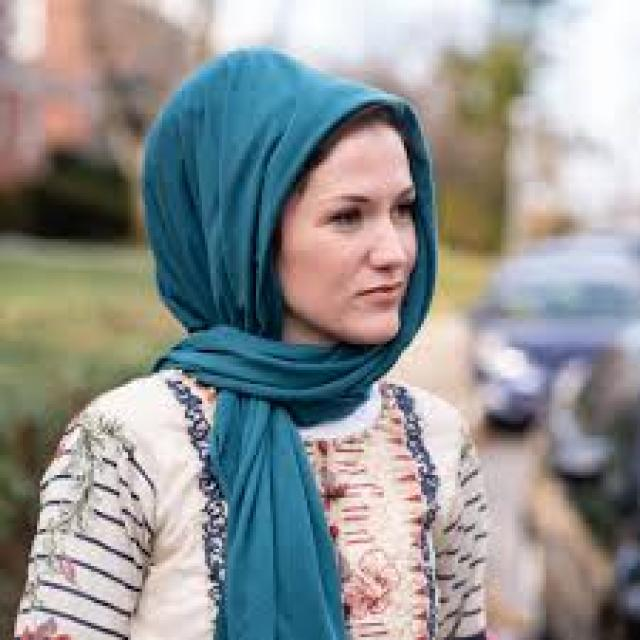4_capucha: (140, 44, 441, 349)
